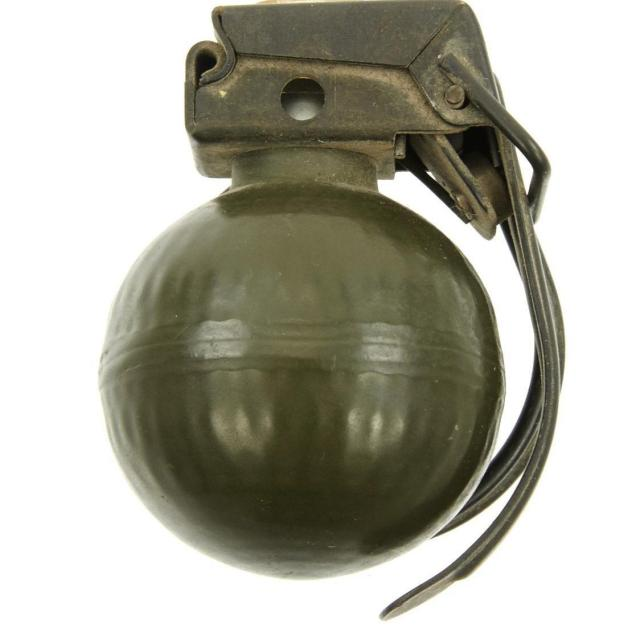grenade: (98, 1, 568, 621)
